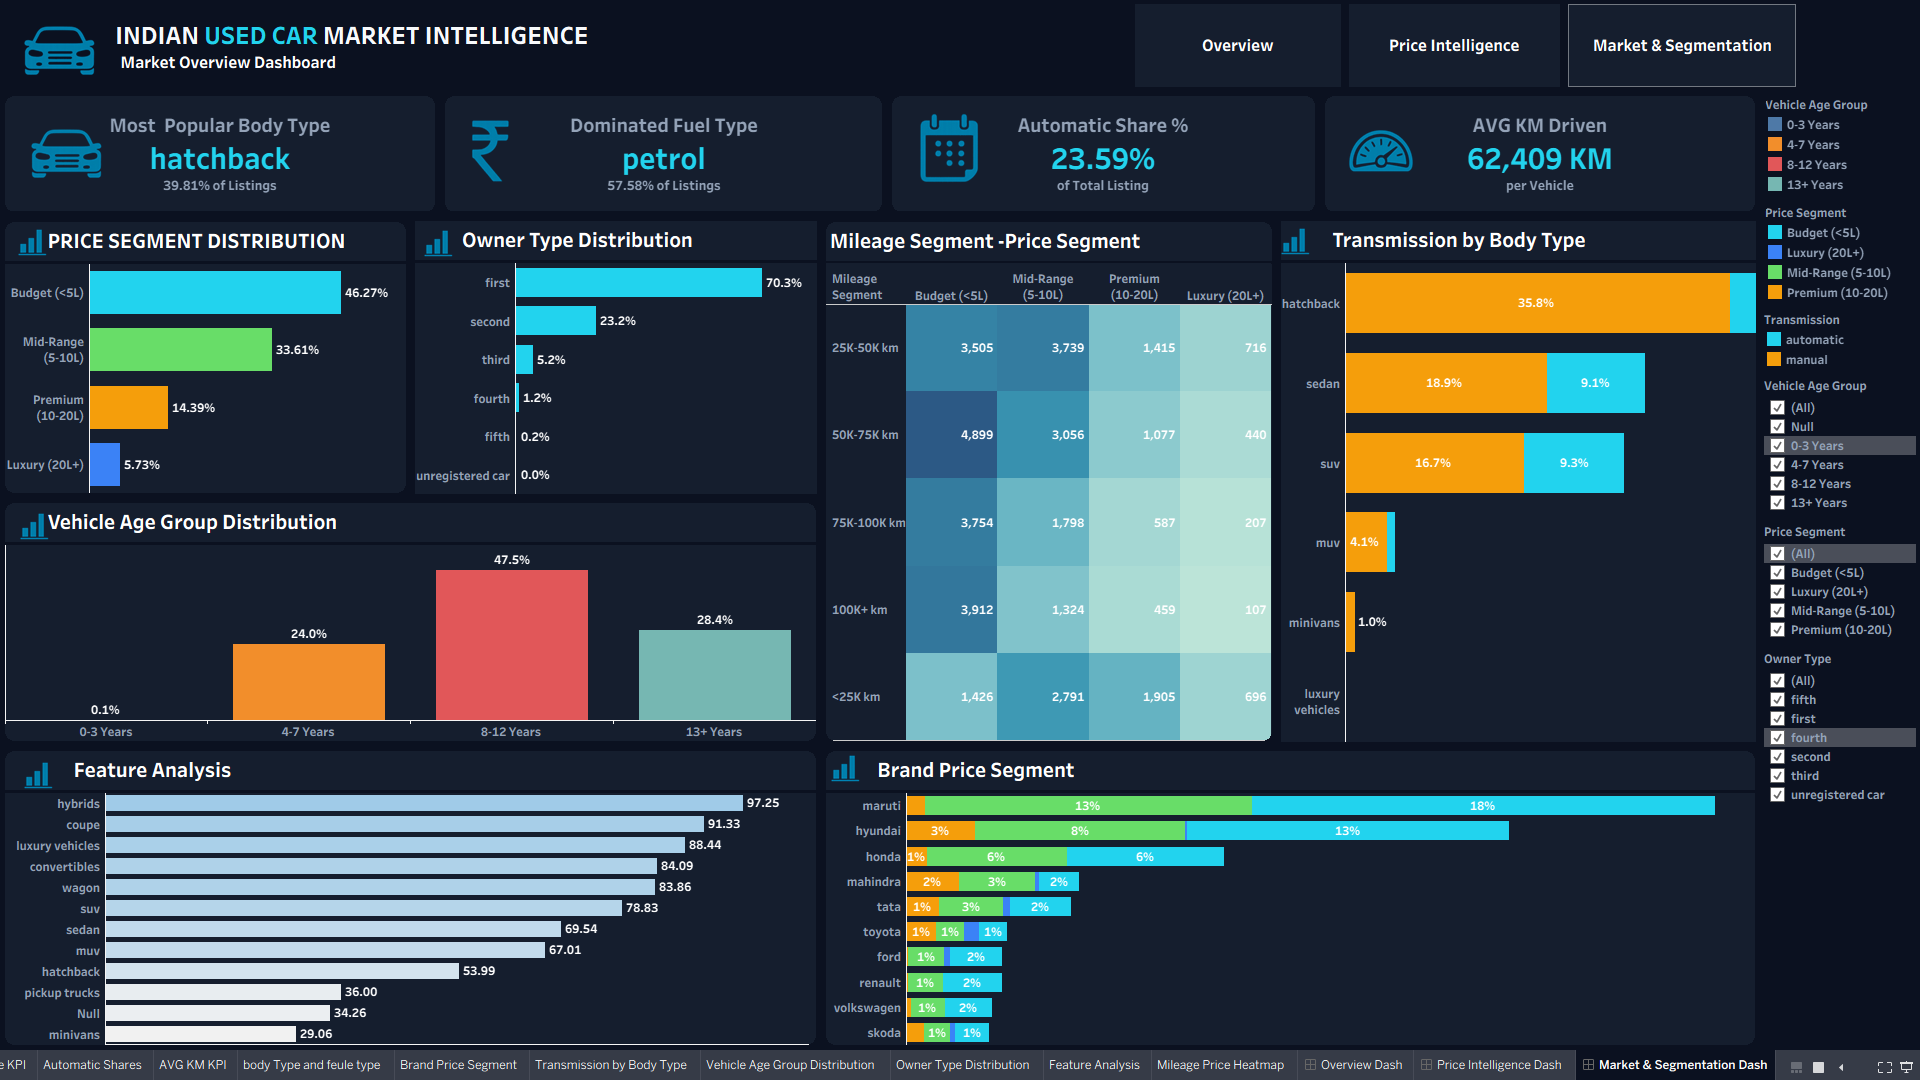

The page's visual inventory and layout, read from the dashboard file:
{"tool":"tableau","page":{"name":"Market & Segmentation Dash","canvas":[1000,1000],"units":"permille","ordinal":0},"visuals":[{"type":"text","box":[0,0,588.9,87]},{"type":"dashboard-object","box":[588.9,0,125.5,87]},{"type":"dashboard-object","box":[714.4,0,128.4,87]},{"type":"dashboard-object","box":[842.8,0,138.4,87]},{"type":"image","param":"Image/car.png","box":[9.4,10,46.3,80.4]},{"type":"worksheet","title":"popular Body Type KPI","mark":"Automatic","box":[0,87,226.4,119.4]},{"type":"worksheet","title":"Fuel Type KPI","mark":"Automatic","box":[226.4,87,230.3,119.4]},{"type":"worksheet","title":"Automatic Shares","mark":"Automatic","box":[456.8,87,222.8,119.4]},{"type":"worksheet","title":"AVG KM KPI","mark":"Automatic","box":[679.5,87,226.6,119.4]},{"type":"legend","title":"Vehicle Age Group Distribution","param":"[federated.0n80w3h17nfst11f9xo4f0tim0gw].[none:Vehicle Age Group:nk]","box":[906.2,87,93.8,120.5]},{"type":"image","param":"Image/Rupee.png","box":[237,99.3,45.6,90.4]},{"type":"image","param":"Image/calender.png","box":[475.1,103.8,41.1,78.1]},{"type":"image","param":"Image/car.png","box":[12.9,108.3,46.3,80.4]},{"type":"image","param":"Image/speed.png","box":[701.5,115,44.6,63.6]},{"type":"worksheet","title":"Price Segment Distribution","mark":"Automatic","rows":["Price Segment"],"cols":["Car ID"],"box":[0,206.5,211.4,267.9]},{"type":"worksheet","title":"Owner Type Distribution","mark":"Automatic","rows":["Owner Type"],"cols":["Car ID"],"box":[211.4,206.5,211.4,267.9]},{"type":"worksheet","title":"Mileage Price Heatmap","mark":"Square","rows":["Mileage Segment"],"cols":["Price Segment"],"box":[422.8,206.5,234.6,504.2]},{"type":"worksheet","title":"Transmission by Body Type","mark":"Automatic","rows":["Body Type"],"cols":["Car ID"],"box":[657.5,206.5,248.7,504.2]},{"type":"legend","title":"Brand Price Segment","param":"[federated.0n80w3h17nfst11f9xo4f0tim0gw].[none:Price Segment:nk]","box":[906.2,207.6,93.8,120.5]},{"type":"image","param":"Image/bar.png","box":[665.3,214.3,19.3,32.4]},{"type":"image","param":"Image/bar.png","box":[7,215.4,19.4,32.4]},{"type":"image","param":"Image/bar.png","box":[218.8,216.5,19.4,32.4]},{"type":"legend","title":"Transmission by Body Type","param":"[federated.0n80w3h17nfst11f9xo4f0tim0gw].[none:Transmission:nk]","box":[906.2,328.1,93.8,73.7]},{"type":"filter","title":"Vehicle Age Group Distribution","param":"[federated.0n80w3h17nfst11f9xo4f0tim0gw].[none:Vehicle Age Group:nk]","box":[906.2,401.8,93.8,163]},{"type":"worksheet","title":"Vehicle Age Group Distribution","mark":"Automatic","rows":["Car ID"],"cols":["Vehicle Age Group"],"box":[0,474.3,422.8,236.3]},{"type":"image","param":"Image/bar.png","box":[8.2,485.5,19.4,32.4]},{"type":"filter","title":"Price Segment Distribution","param":"[federated.0n80w3h17nfst11f9xo4f0tim0gw].[none:Price Segment:nk]","box":[906.2,564.7,93.8,141.7]},{"type":"filter","title":"Owner Type Distribution","param":"[federated.0n80w3h17nfst11f9xo4f0tim0gw].[none:Owner Type:nk]","box":[906.2,706.5,93.8,184.2]},{"type":"worksheet","title":"Feature Analysis","mark":"Automatic","rows":["Body Type"],"cols":["Total Feature Count"],"box":[0,710.6,422.8,289.4]},{"type":"worksheet","title":"Brand Price Segment","mark":"Automatic","rows":["Brand"],"cols":["Car ID"],"box":[422.8,710.6,483.3,289.4]},{"type":"image","param":"Image/bar.png","box":[430.5,716.5,19.4,32.4]},{"type":"image","param":"Image/bar.png","box":[10.6,723.2,19.4,32.4]}]}

Visuals, with their boxes on the dashboard's canvas, which has no fixed pixel size, in thousandths of its width and height (x1, y1, x2, y2). These are canvas units, not pixel positions in the 1920x1080 screenshot, which may show the page scaled, cropped or inside an application window:
text: crop(0, 0, 589, 87)
dashboard-object: crop(589, 0, 714, 87)
dashboard-object: crop(714, 0, 843, 87)
dashboard-object: crop(843, 0, 981, 87)
image: crop(9, 10, 56, 90)
"popular Body Type KPI" worksheet: crop(0, 87, 226, 206)
"Fuel Type KPI" worksheet: crop(226, 87, 457, 206)
"Automatic Shares" worksheet: crop(457, 87, 680, 206)
"AVG KM KPI" worksheet: crop(680, 87, 906, 206)
"Vehicle Age Group Distribution" legend: crop(906, 87, 1000, 208)
image: crop(237, 99, 283, 190)
image: crop(475, 104, 516, 182)
image: crop(13, 108, 59, 189)
image: crop(702, 115, 746, 179)
"Price Segment Distribution" worksheet: crop(0, 206, 211, 474)
"Owner Type Distribution" worksheet: crop(211, 206, 423, 474)
"Mileage Price Heatmap" worksheet (Square marks): crop(423, 206, 657, 711)
"Transmission by Body Type" worksheet: crop(658, 206, 906, 711)
"Brand Price Segment" legend: crop(906, 208, 1000, 328)
image: crop(665, 214, 685, 247)
image: crop(7, 215, 26, 248)
image: crop(219, 216, 238, 249)
"Transmission by Body Type" legend: crop(906, 328, 1000, 402)
"Vehicle Age Group Distribution" filter: crop(906, 402, 1000, 565)
"Vehicle Age Group Distribution" worksheet: crop(0, 474, 423, 711)
image: crop(8, 486, 28, 518)
"Price Segment Distribution" filter: crop(906, 565, 1000, 706)
"Owner Type Distribution" filter: crop(906, 706, 1000, 891)
"Feature Analysis" worksheet: crop(0, 711, 423, 1000)
"Brand Price Segment" worksheet: crop(423, 711, 906, 1000)
image: crop(430, 716, 450, 749)
image: crop(11, 723, 30, 756)
